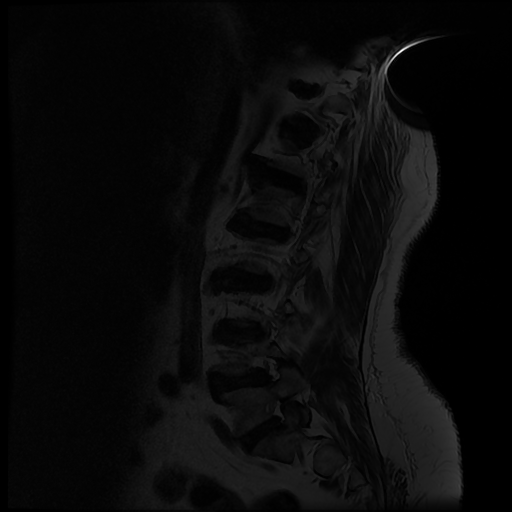RFS0: (253, 390, 300, 435)
